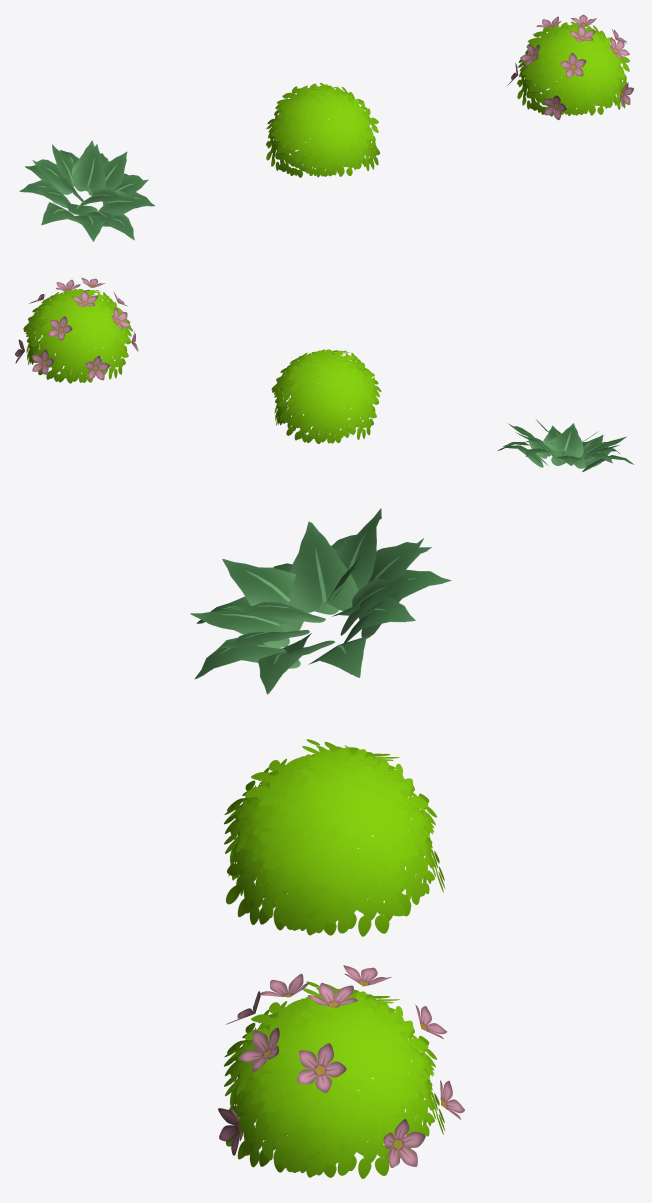
File: Bushes.glb
3 views of the same model, one above another, from view 1: azimuth 30°, elevation 25°; view 2: azimuth 150°, elevation 25°; view 3: azimuth 270°, elevation 25° (orthographic). The views are drawn at different scales.
Visible parts, largest first — view 1: Bush_Flowers, Bush, Plant_1; view 2: Bush_Flowers, Bush, Plant_1; view 3: Bush_Flowers, Bush, Plant_1.
Part boxes in pixels (bbox=[...]): Bush_Flowers: bbox=[507, 14, 633, 119]; Bush: bbox=[266, 82, 380, 177]; Plant_1: bbox=[19, 140, 154, 241]; Bush_Flowers: bbox=[15, 278, 138, 383]; Bush: bbox=[271, 349, 381, 443]; Plant_1: bbox=[497, 419, 634, 471]; Bush_Flowers: bbox=[218, 965, 464, 1178]; Bush: bbox=[224, 739, 445, 936]; Plant_1: bbox=[190, 508, 451, 694].
Bounding box in the file's own units: 6.03 × 0.7975 × 1.23.
Materials: 2 (2 with a texture image).
